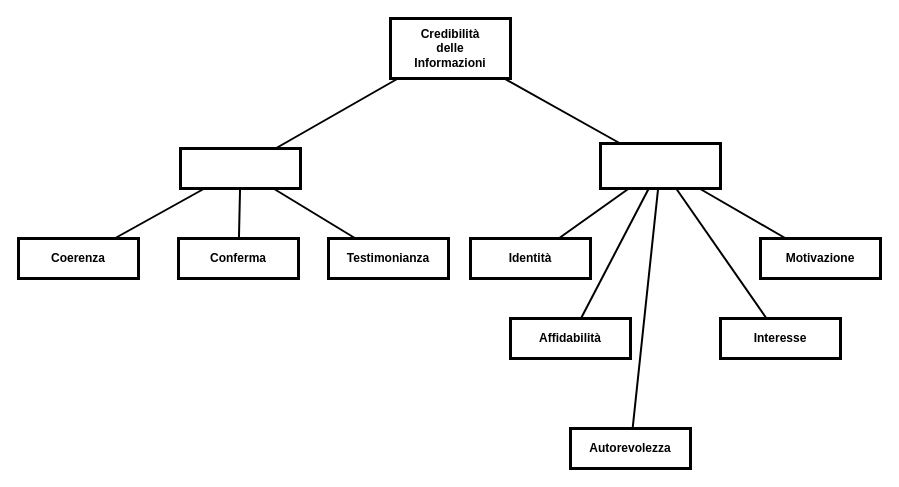
Image size: 899x487. Some labels were removed from this diagram. The centre of each missing label's shape, as x and y in pixels:
Contenuto: the point at 240,168
Fonti: the point at 660,166
